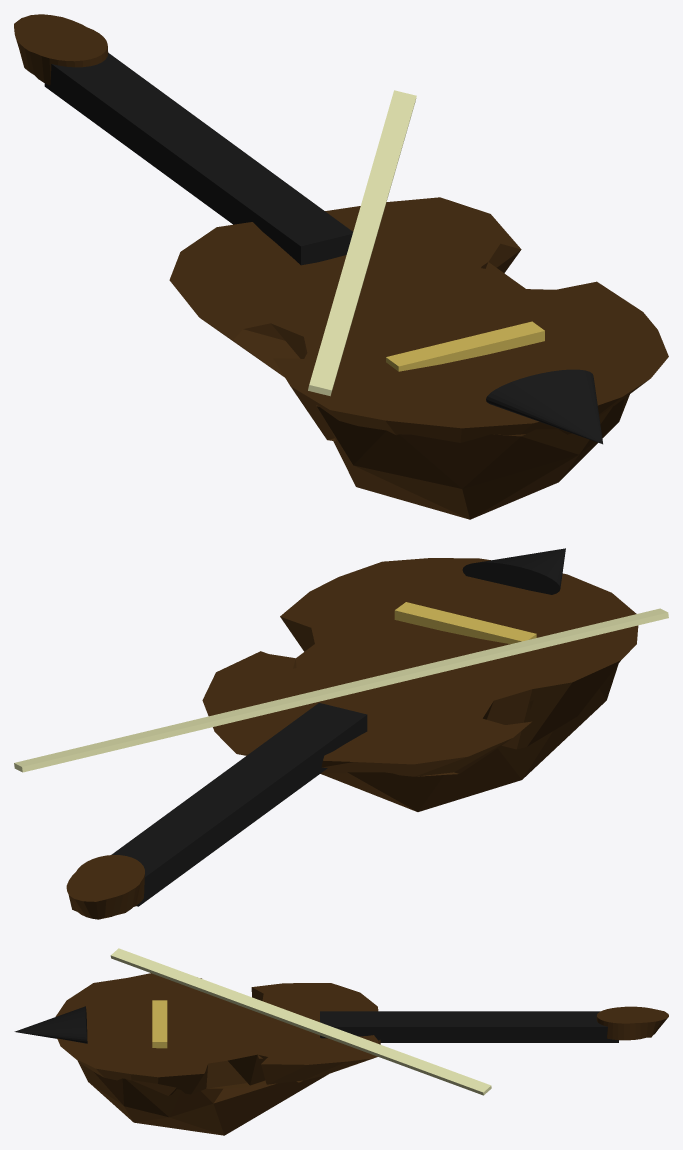
The model's file is violin.fbx.
3 views of the same model, one above another, from view 1: azimuth 30°, elevation 25°; view 2: azimuth 150°, elevation 25°; view 3: azimuth 270°, elevation 25° (orthographic). The views are drawn at different scales.
Visible parts, largest first — view 1: Cilindro, Cubo, Esfera geodésica, Cubo.002, Cono, Cilindro.002, Cubo.001; view 2: Cilindro, Cubo, Cubo.002, Esfera geodésica, Cilindro.002, Cono, Cubo.001; view 3: Cilindro, Cubo, Esfera geodésica, Cubo.002, Cilindro.002, Cono, Cubo.001.
Part boxes in pixels (x1,y1,x2,y2): Cilindro: (169,197,668,442); Cubo: (44,53,352,265); Esfera geodésica: (316,394,629,519); Cubo.002: (308,90,416,396); Cono: (486,369,602,444); Cilindro.002: (14,14,108,85); Cubo.001: (386,321,544,371); Cilindro: (202,558,638,776); Cubo: (111,703,367,906); Cubo.002: (14,608,668,772); Esfera geodésica: (320,664,618,811); Cilindro.002: (66,855,144,919); Cono: (462,548,565,594); Cubo.001: (394,602,536,644); Cilindro: (55,973,380,1094); Cubo: (320,1011,618,1042); Esfera geodésica: (77,1060,329,1135); Cubo.002: (110,948,491,1095); Cilindro.002: (596,1006,668,1040); Cono: (14,1006,87,1043); Cubo.001: (152,1000,167,1048).
Bounding box in the file's own units: 272 × 125 × 628.
